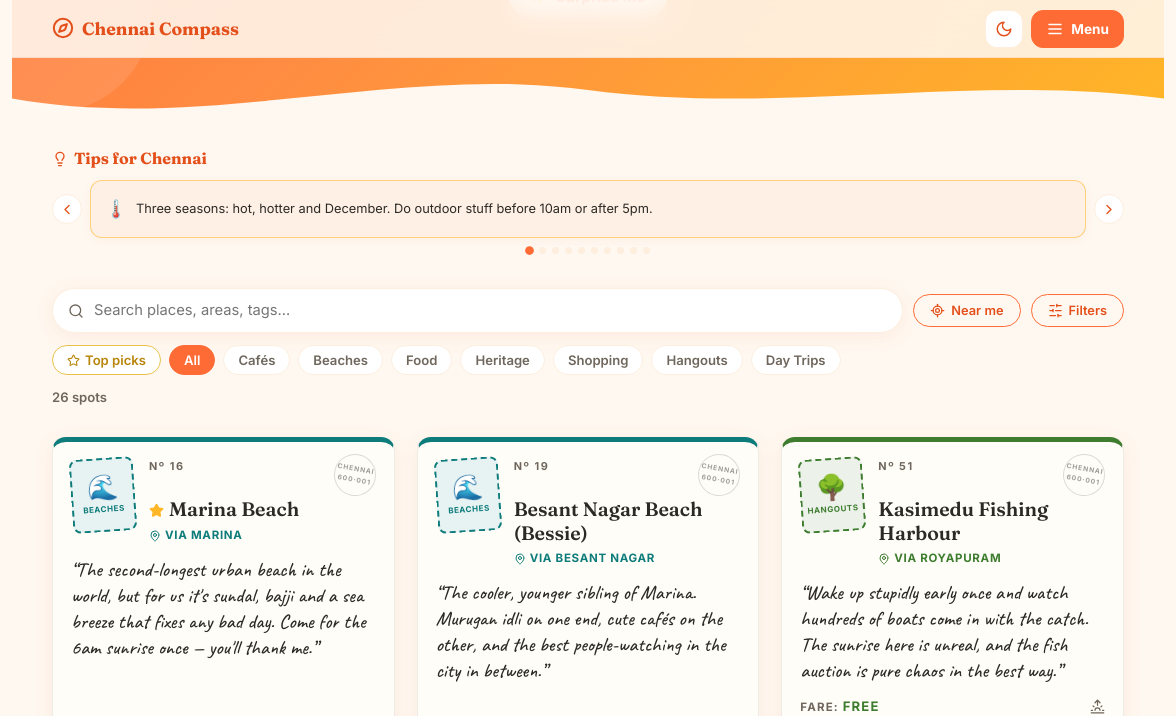
category filter is single-select › shows only the chosen category and switches cleanly between them
The width and height of the screenshot is (1176, 716).
(page scrolled)
Expected: the heading "Marina Beach" is shown, [149,497,299,521]
Click the button "Cafés" at (257, 360), box [223,345,290,375]
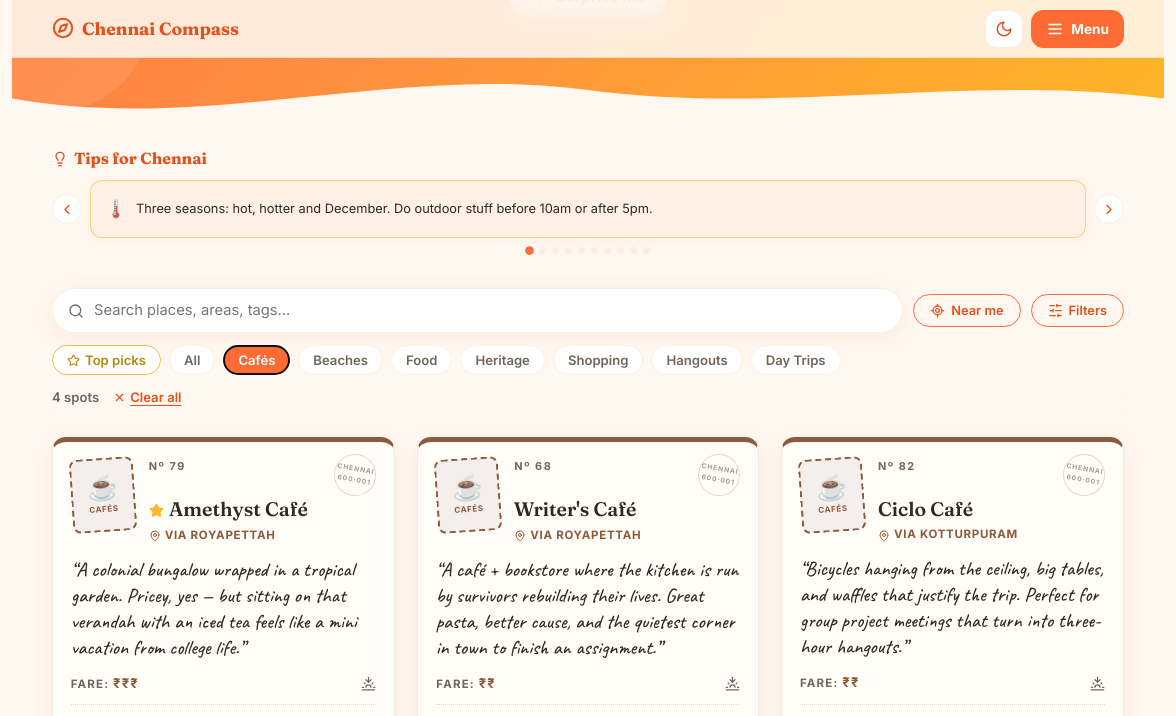
Expected: the heading "Amethyst Café" is shown, [149,497,308,521]
Now the link "Marina Beach" is gone
Picking Beaches replaces Cafés rather than adding to it.
Click the button "Beaches" at (341, 360), box [298,345,383,375]
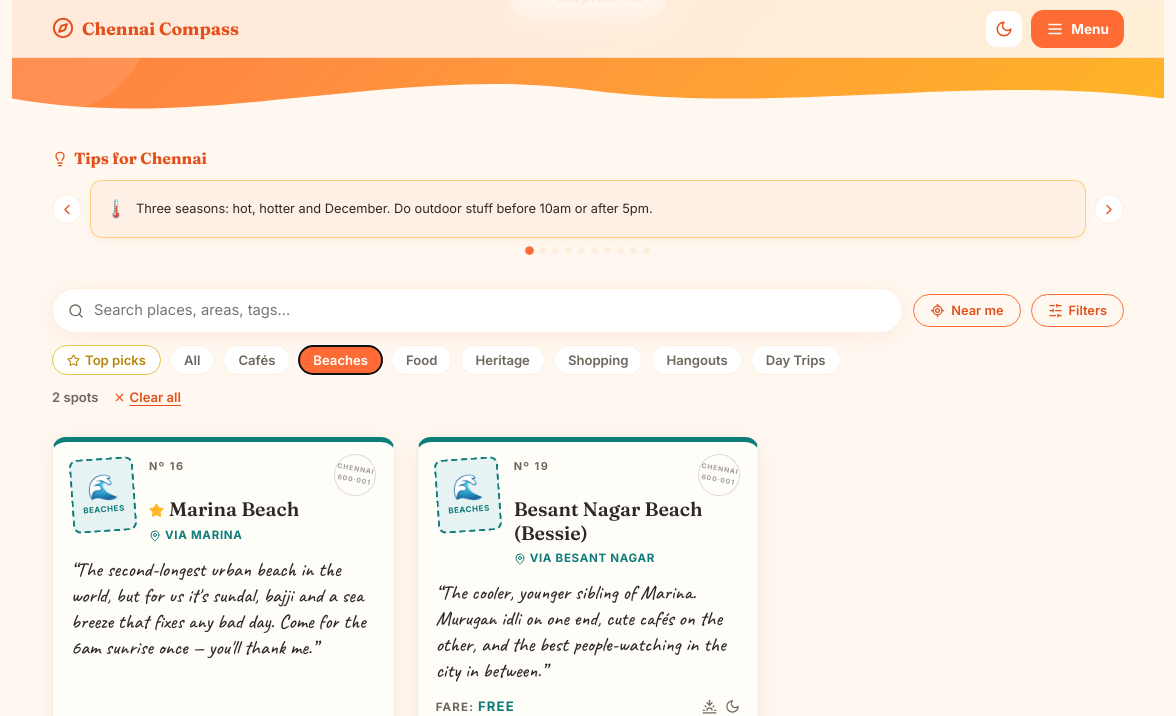
Now the heading "Marina Beach" is shown, box [149,497,299,521]
Now the link "Amethyst Café" is gone
